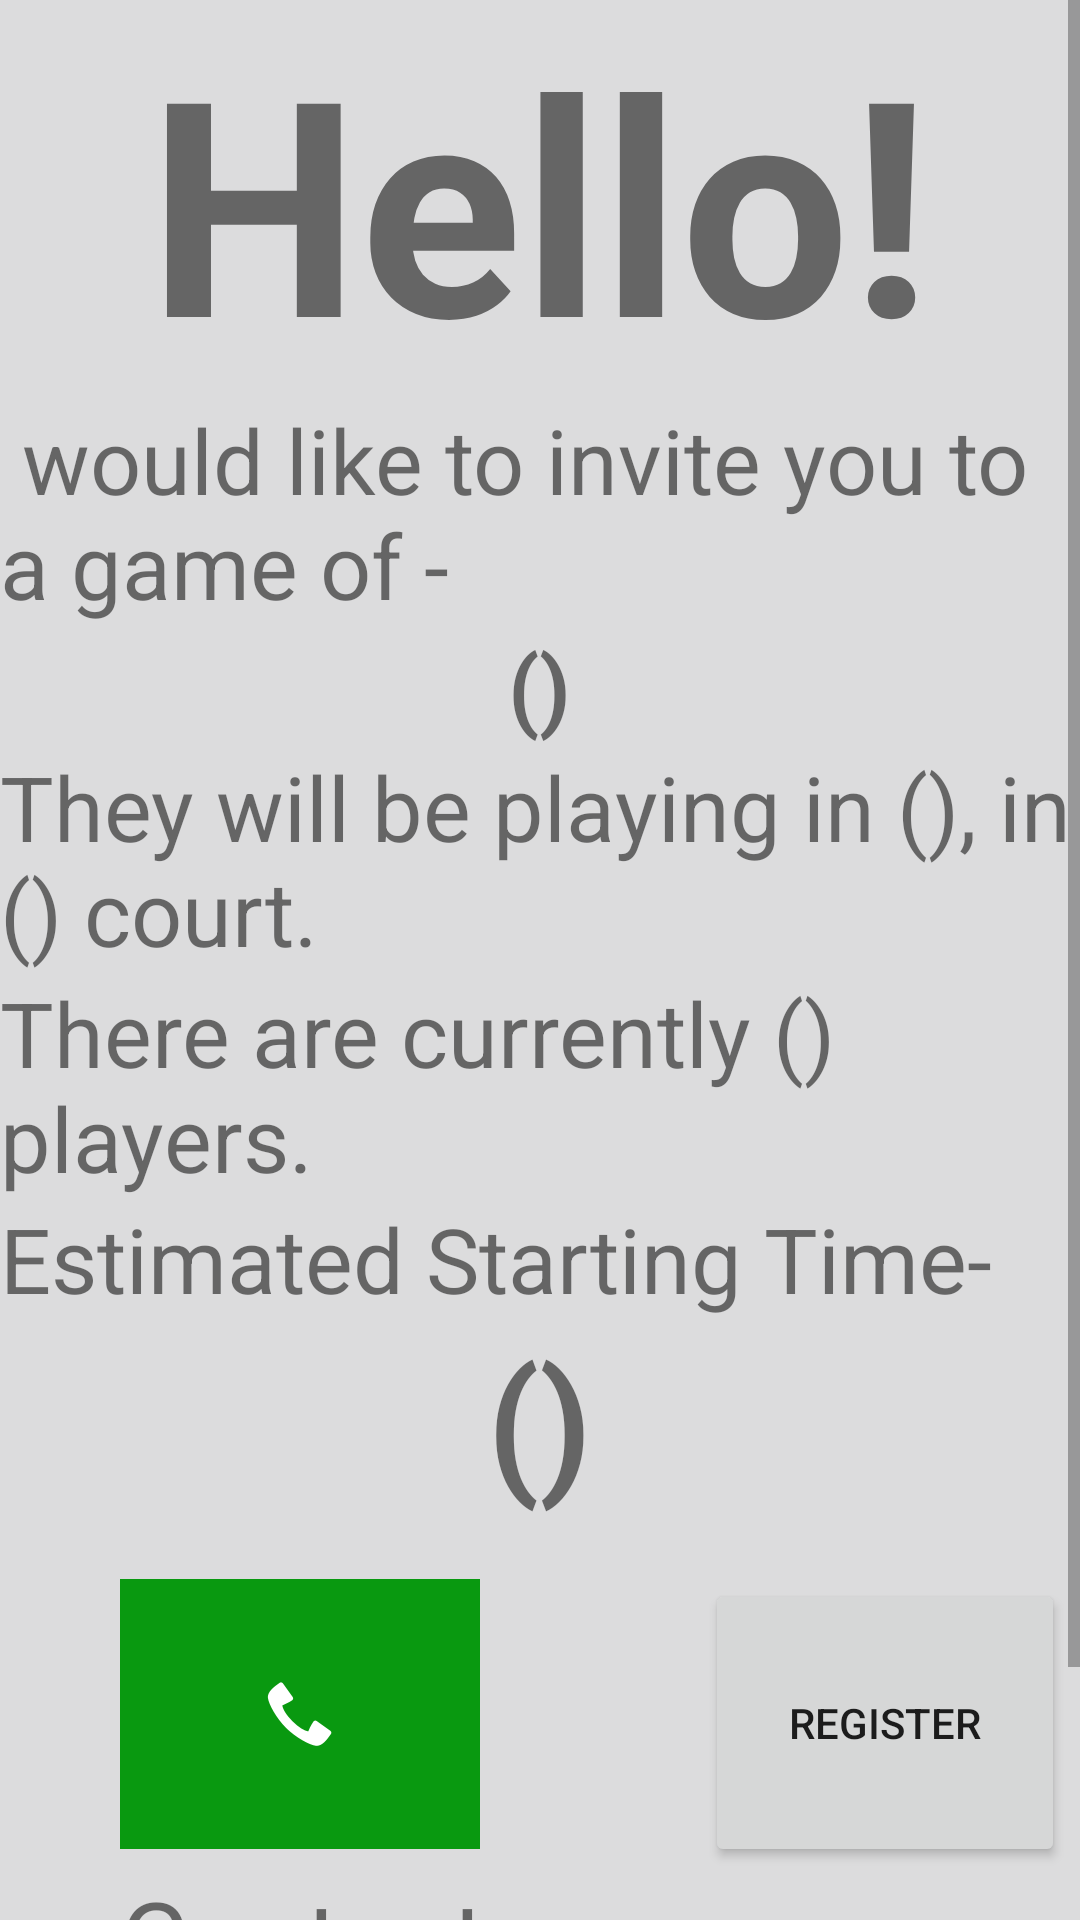

Icon click points for this 1080px×1920px phone screenshot, format point (x, y):
phone call: point (300, 1714)
